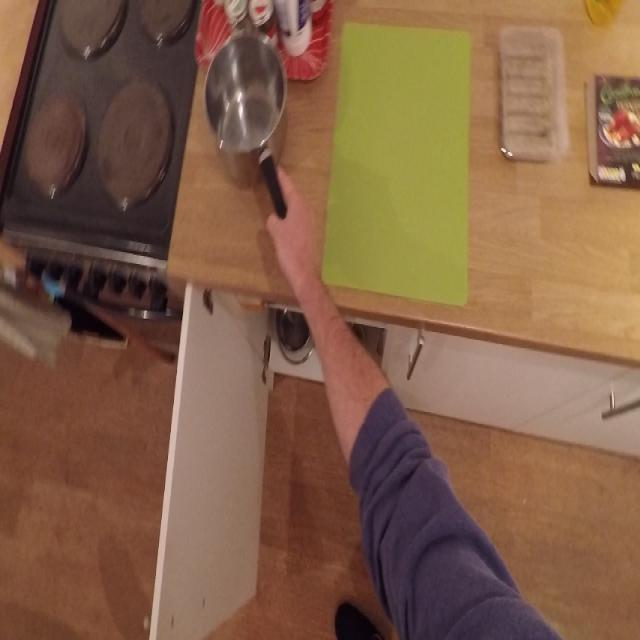cubboard: (160, 278, 280, 640)
cutting board: (332, 17, 481, 331)
hob: (30, 1, 183, 272)
pan: (205, 38, 289, 226)
right hand: (259, 159, 321, 302)
